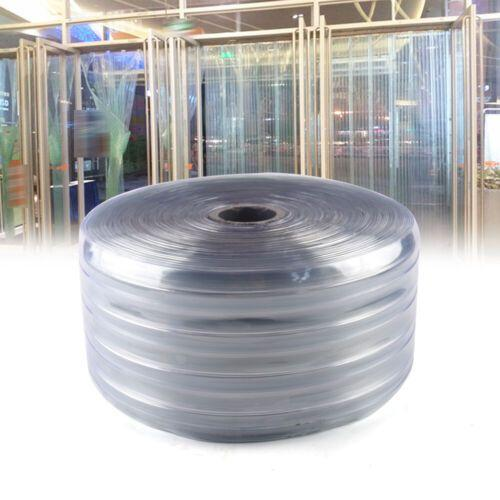PVC: (66, 145, 430, 463)
